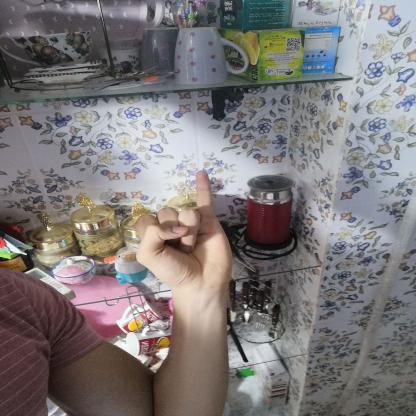MEEM: (119, 160, 243, 294)
